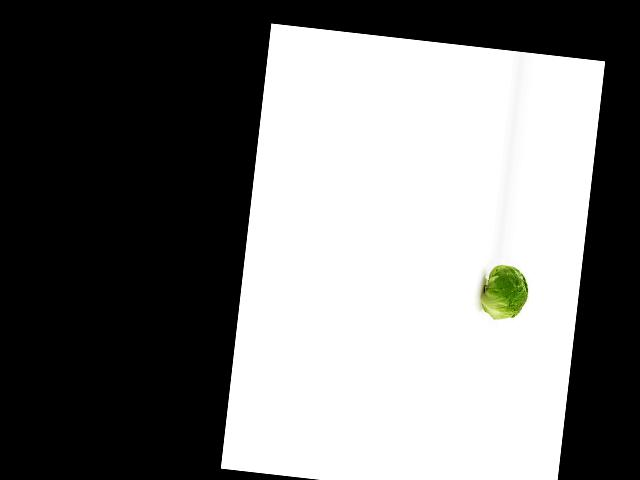lettuce: (482, 256, 533, 323)
